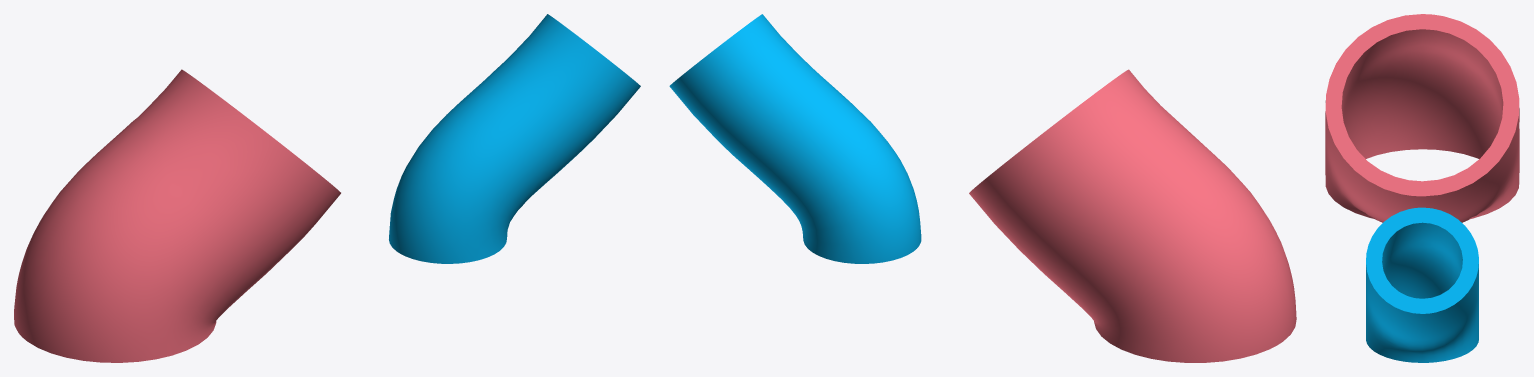
The model's file is sweep.glb.
3 views of the same model, side by side, from view 1: azimuth 30°, elevation 25°; view 2: azimuth 150°, elevation 25°; view 3: azimuth 270°, elevation 25° (orthographic). The views are drawn at different scales.
Parts seen in each view (by area): view 1: COMPOUND; view 2: COMPOUND; view 3: COMPOUND.
Part boxes in pixels (x1,y1,x2,y2): COMPOUND: [14, 14, 640, 362]; COMPOUND: [669, 14, 1296, 362]; COMPOUND: [1325, 14, 1519, 362].
Size of the model in its own units: 0.00824 by 0.00303 by 0.0024.
